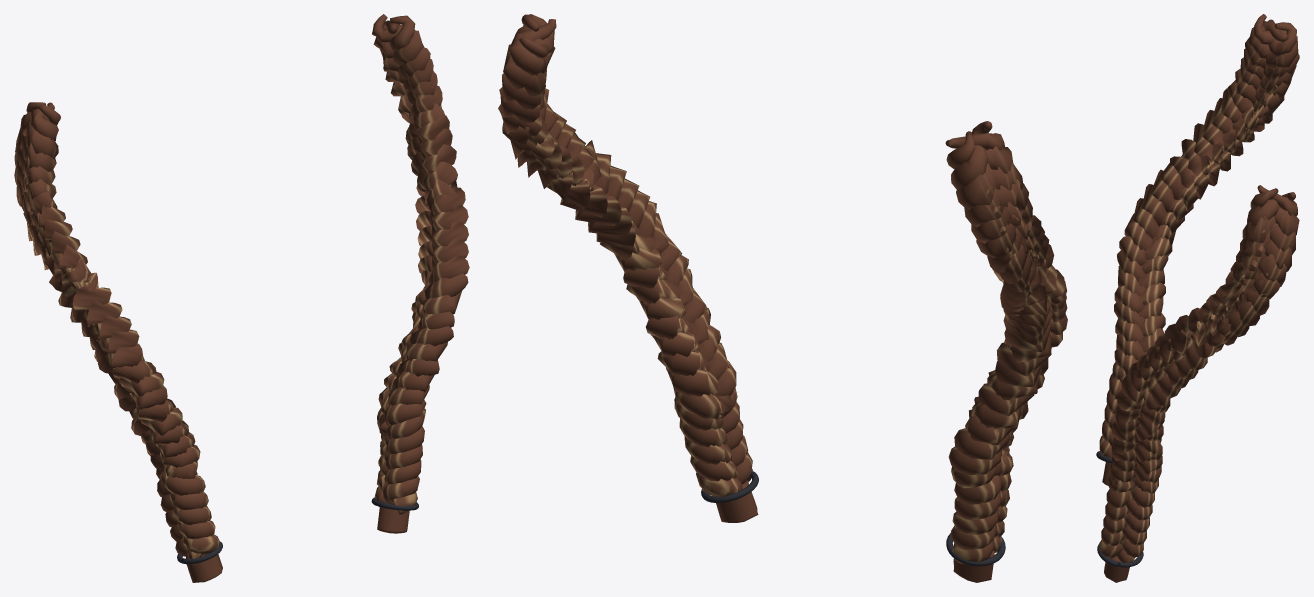
The model's file is Highlights-4b87e7c6ca21252-hair.glb.
The picture shows the model from 3 angles, left to right: view 1: azimuth 30°, elevation 25°; view 2: azimuth 150°, elevation 25°; view 3: azimuth 270°, elevation 25°; orthographic projection. The views are drawn at different scales.
Parts seen in each view (by area): view 1: 226 hairLengths / Hair / chestnut226, 226 hairLengths / Hair / ties226; view 2: 226 hairLengths / Hair / chestnut226, 226 hairLengths / Hair / ties226; view 3: 226 hairLengths / Hair / chestnut226, 226 hairLengths / Hair / ties226.
Part boxes in pixels (x1,y1,x2,y2): 226 hairLengths / Hair / chestnut226: [14, 14, 469, 582]; 226 hairLengths / Hair / ties226: [177, 497, 418, 564]; 226 hairLengths / Hair / chestnut226: [498, 14, 1067, 582]; 226 hairLengths / Hair / ties226: [701, 471, 1005, 566]; 226 hairLengths / Hair / chestnut226: [1099, 14, 1299, 582]; 226 hairLengths / Hair / ties226: [1096, 451, 1143, 567].
Size of the model in its own units: 1.03 by 1.05 by 0.4513.
Materials: 2 (1 with a texture image).
